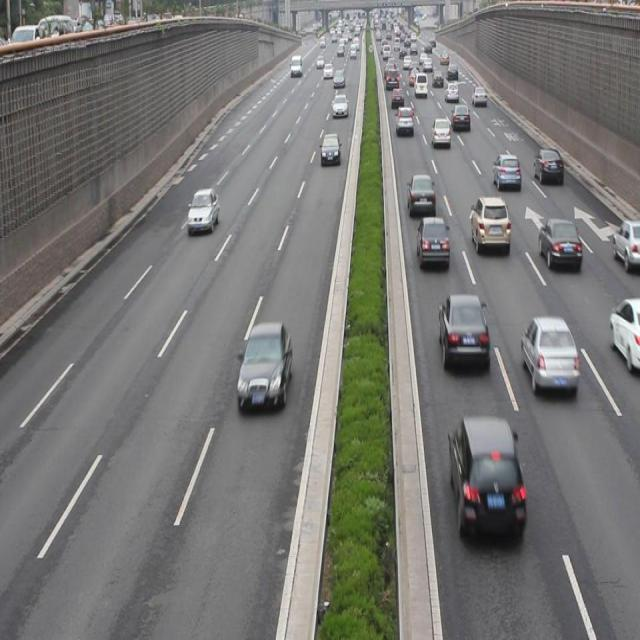car: (446, 413, 524, 545), (520, 314, 577, 401), (237, 324, 290, 414), (437, 294, 489, 372), (608, 295, 640, 373), (536, 218, 581, 268), (470, 195, 509, 252), (416, 217, 449, 268), (610, 219, 640, 265), (407, 172, 436, 218), (187, 189, 218, 229), (491, 155, 519, 191), (532, 148, 560, 183), (319, 133, 341, 162), (431, 116, 450, 148), (451, 103, 470, 133), (394, 107, 412, 136)
